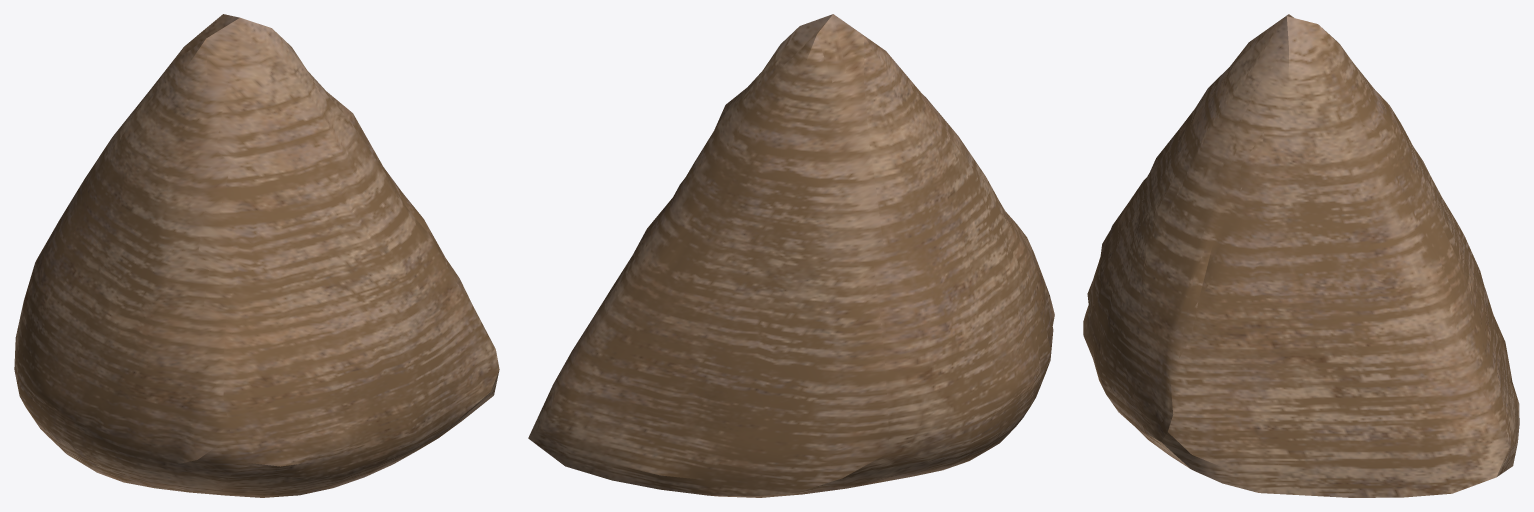
Rendered from Temple Rock 2.fbx.
3 renders of one model, left to right at view 1: azimuth 30°, elevation 25°; view 2: azimuth 150°, elevation 25°; view 3: azimuth 270°, elevation 25°, orthographic. The views are drawn at different scales.
Parts seen in each view (by area): view 1: rock.009; view 2: rock.009; view 3: rock.009.
Boxes of the visible parts, box(x1,y1,x2,y2) form: rock.009: box(14, 14, 499, 497); rock.009: box(528, 14, 1054, 497); rock.009: box(1083, 14, 1519, 497).
Bounding box in the file's own units: 91.81 × 89.99 × 91.13.
Materials: 1 (1 with a texture image).
